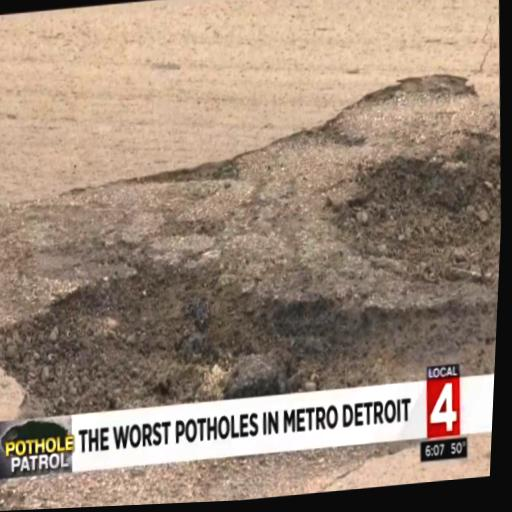pothole: (0, 81, 501, 390)
